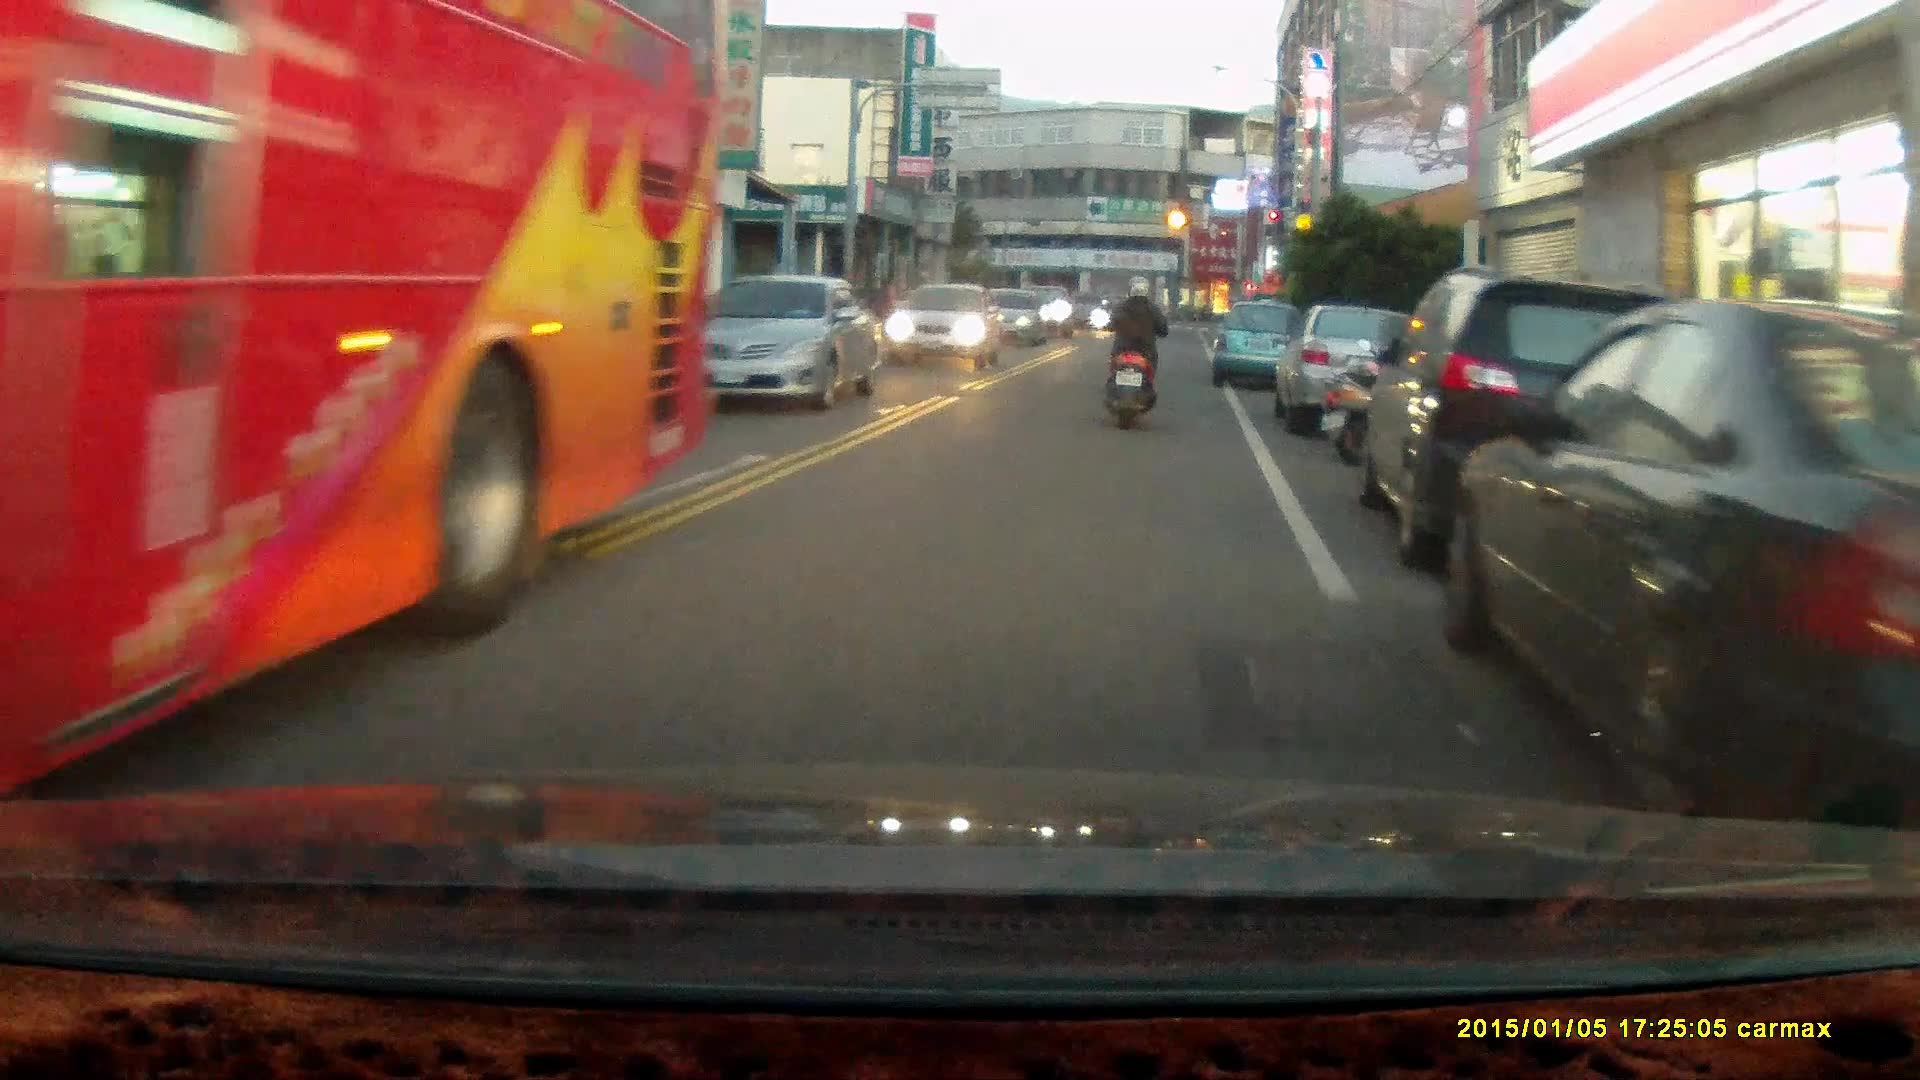rider: (1097, 271, 1168, 429)
vehicle: (1, 9, 719, 789), (1441, 296, 1920, 842), (1351, 263, 1785, 572), (663, 276, 880, 406), (1278, 304, 1450, 438), (886, 282, 1005, 372), (1207, 300, 1305, 391)
